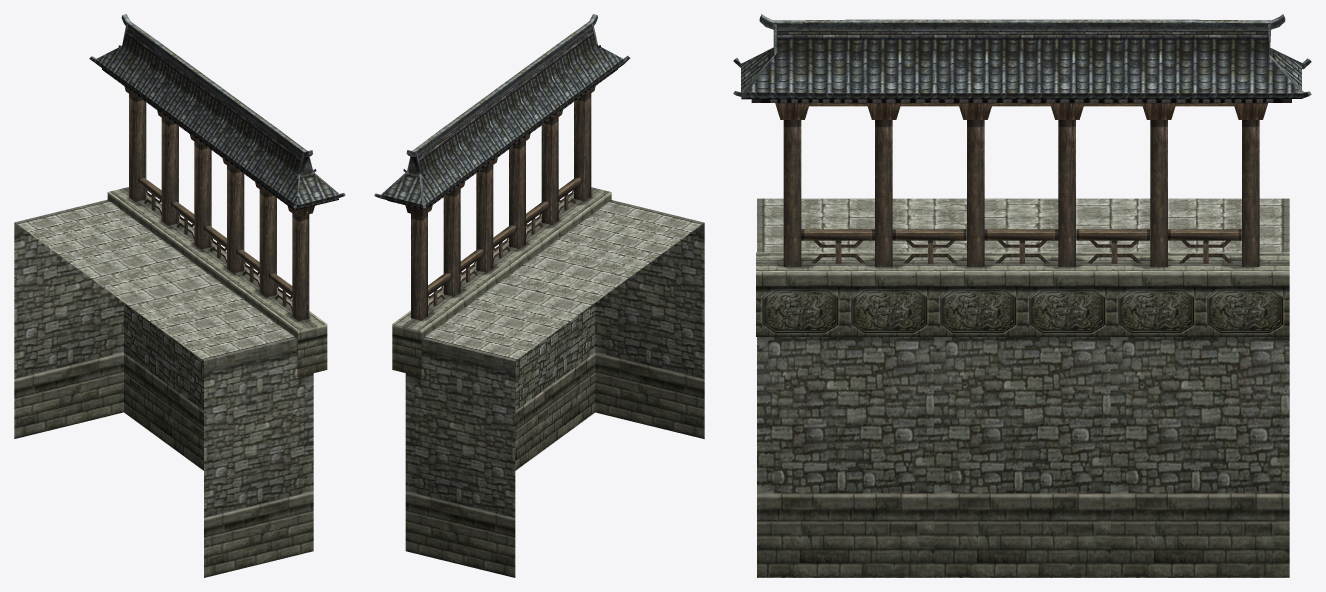
File: general_obj_watchtower01.fbx
3 renders of one model, left to right at view 1: azimuth 30°, elevation 25°; view 2: azimuth 150°, elevation 25°; view 3: azimuth 270°, elevation 25°, orthographic. The views are drawn at different scales.
Parts seen in each view (by area): view 1: general_obj_watchtower02, general_obj_watchtower01; view 2: general_obj_watchtower02, general_obj_watchtower01; view 3: general_obj_watchtower02, general_obj_watchtower01.
Boxes of the visible parts, x1,y1,x2,y2 form: general_obj_watchtower02: [14, 199, 313, 577]; general_obj_watchtower01: [89, 14, 345, 376]; general_obj_watchtower02: [405, 200, 704, 577]; general_obj_watchtower01: [374, 14, 630, 376]; general_obj_watchtower02: [757, 198, 1289, 577]; general_obj_watchtower01: [733, 14, 1311, 336].
Bounding box in the file's own units: 7.37 × 21.01 × 19.63.
